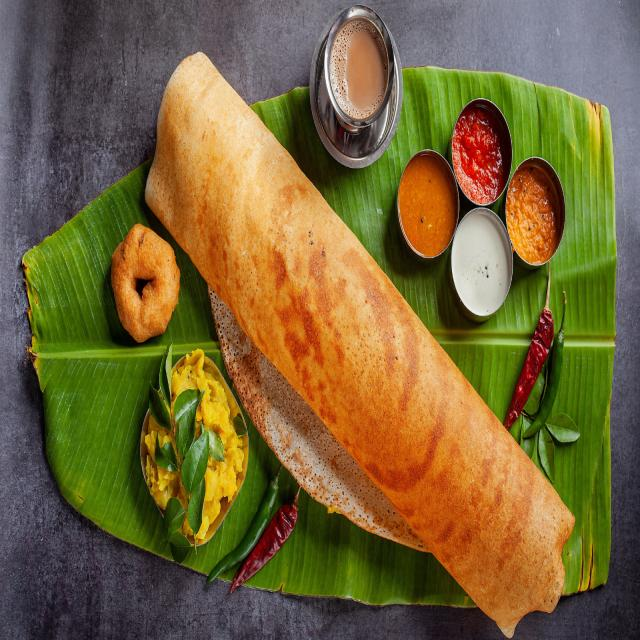DOSA: (142, 51, 574, 616)
MEDU VADA: (112, 223, 178, 338)
